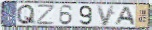6: (59, 4, 74, 26)
9: (79, 5, 93, 26)
A: (112, 6, 137, 26)
Q: (15, 3, 37, 25)
V: (95, 5, 116, 27)
Z: (37, 4, 56, 26)
